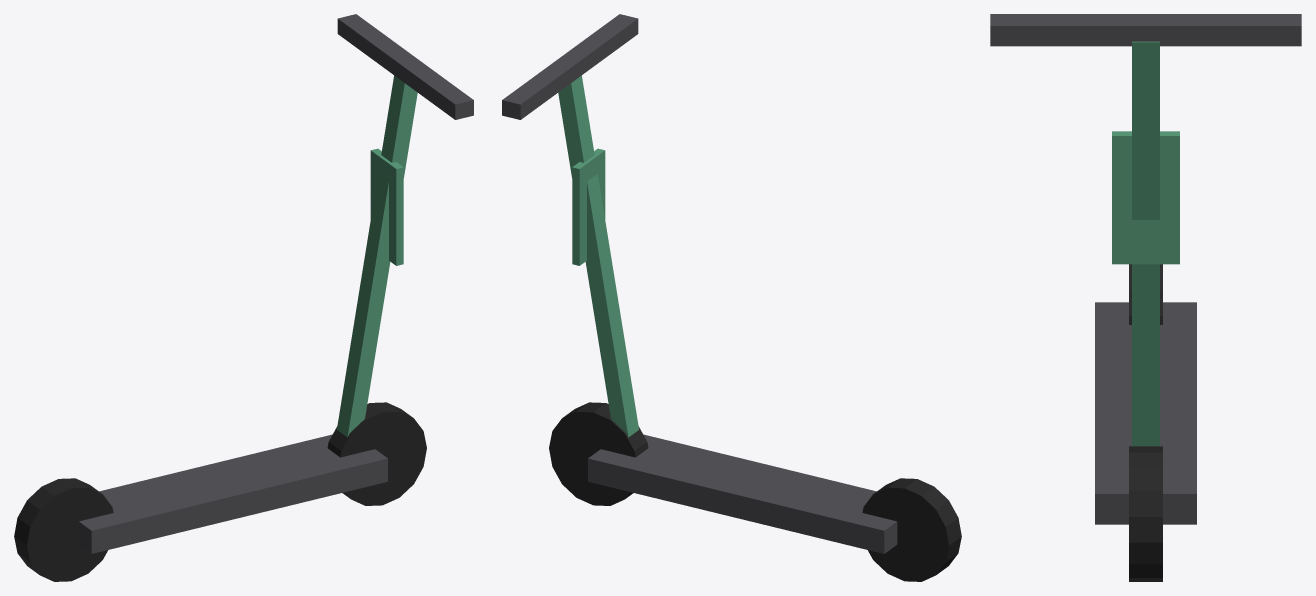
The model's file is SM_Prop_Scooter.glb.
3 renders of one model, left to right at view 1: azimuth 30°, elevation 25°; view 2: azimuth 150°, elevation 25°; view 3: azimuth 270°, elevation 25°, orthographic. The views are drawn at different scales.
Visible parts, largest first — view 1: SM_Prop_Scooter; view 2: SM_Prop_Scooter; view 3: SM_Prop_Scooter.
Part boxes in pixels (left/top/right/bottom): SM_Prop_Scooter: left=14, top=14, right=473, bottom=581; SM_Prop_Scooter: left=502, top=14, right=961, bottom=581; SM_Prop_Scooter: left=990, top=14, right=1301, bottom=581.
Bounding box in the file's own units: 1.08 × 1.12 × 0.55.
